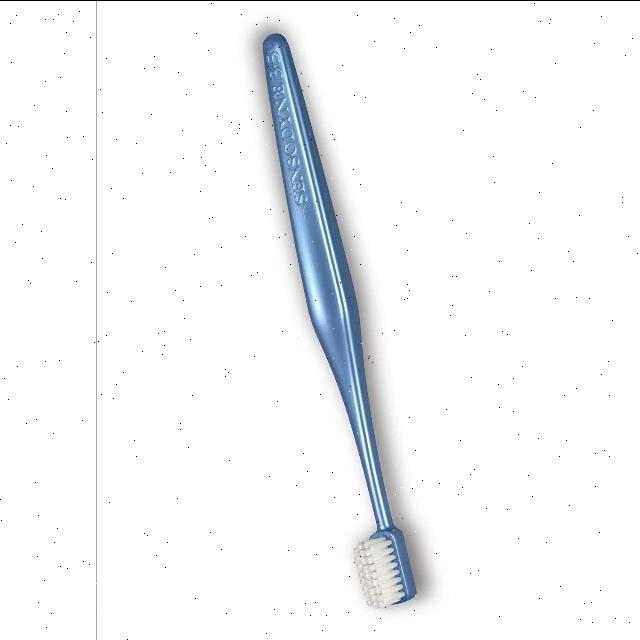toothbrush: (209, 0, 436, 608)
